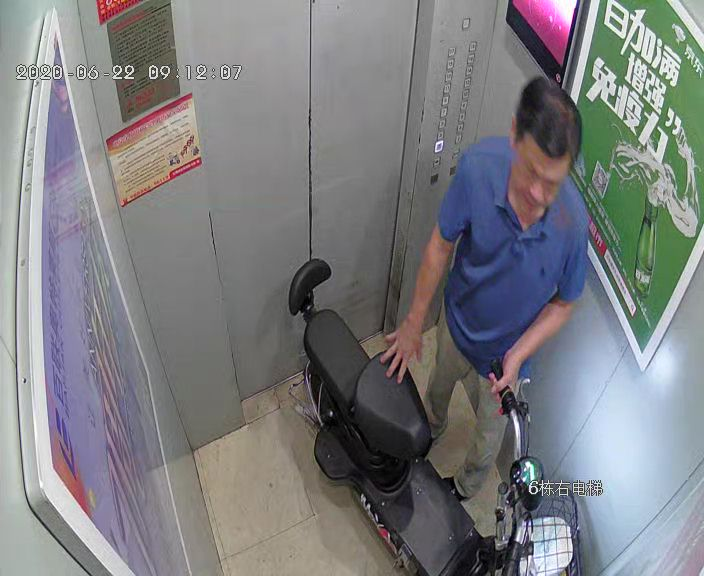Electric-bicycle: (278, 259, 586, 576)
